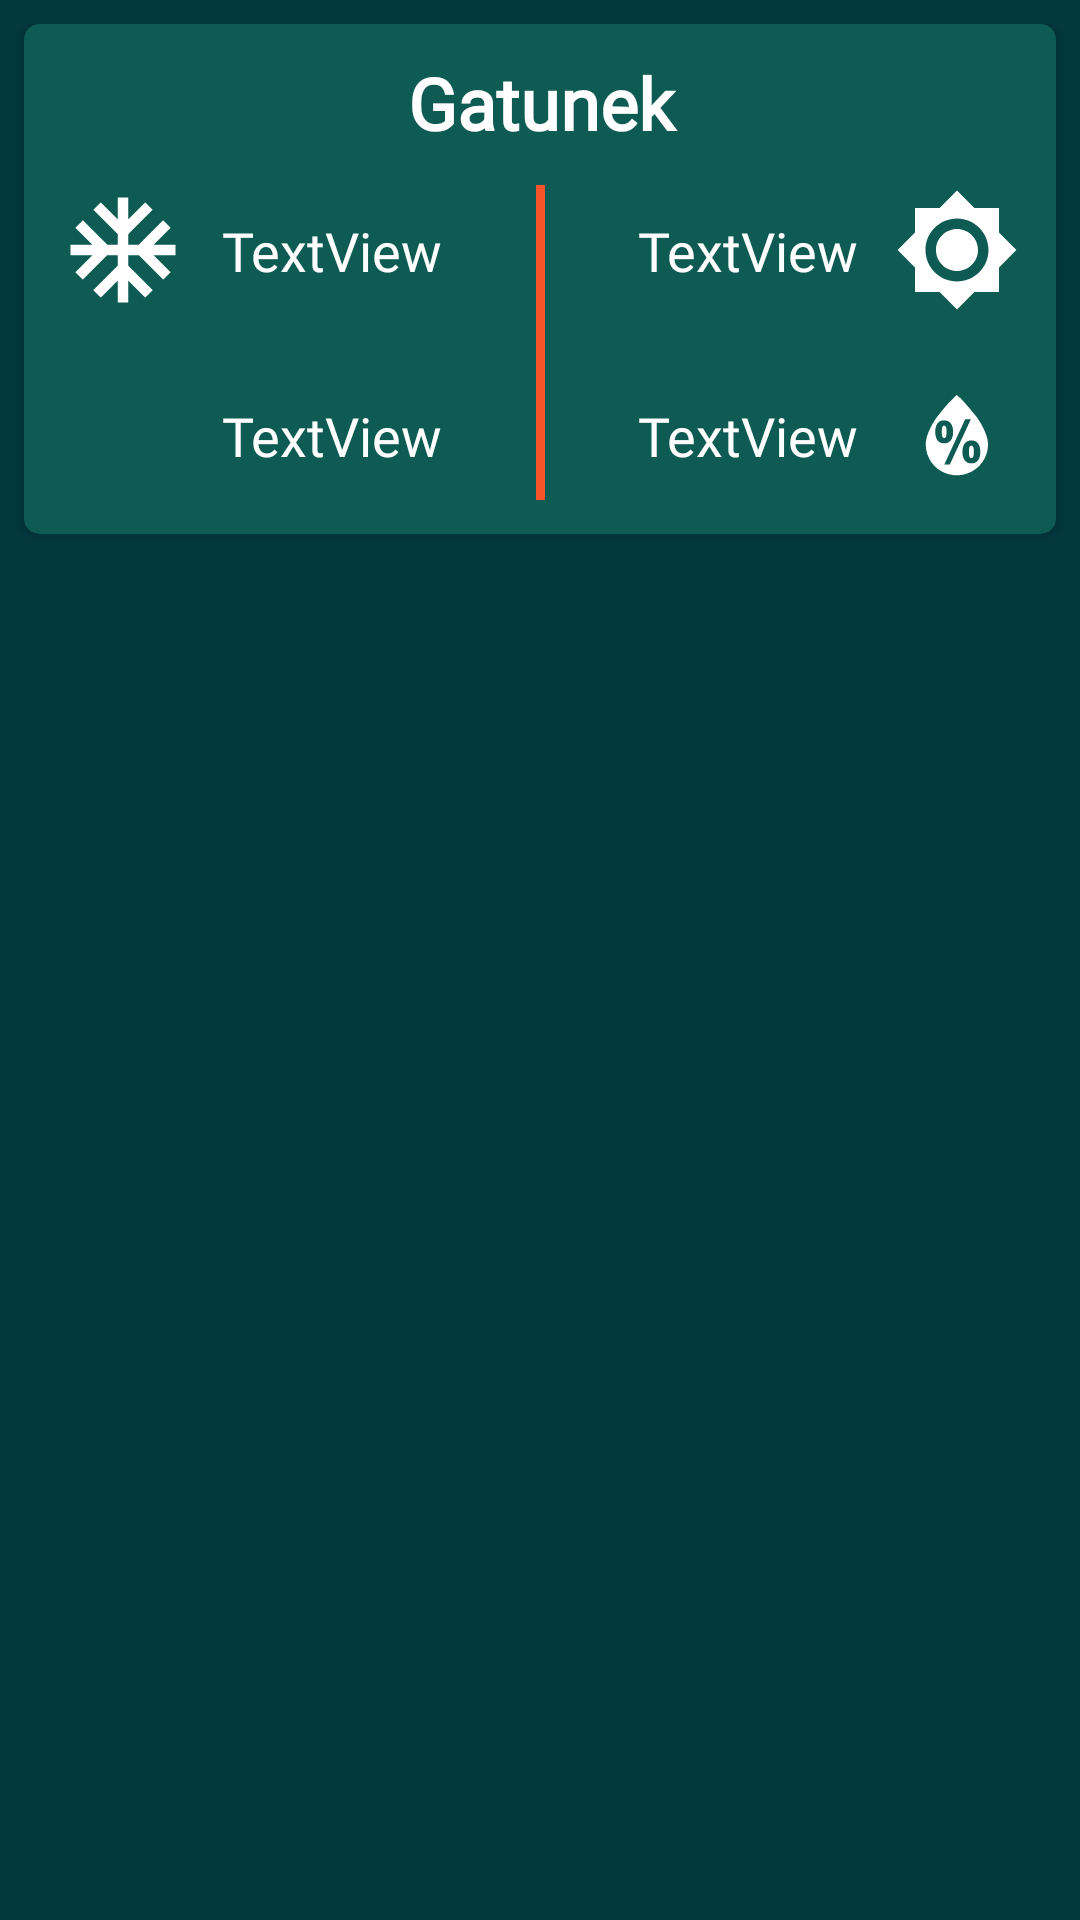

Point at icon controls on the screen. Image size 1080 × 1920, points as (x,y).
sun: (957,250)
wi humidity: (956,435)
